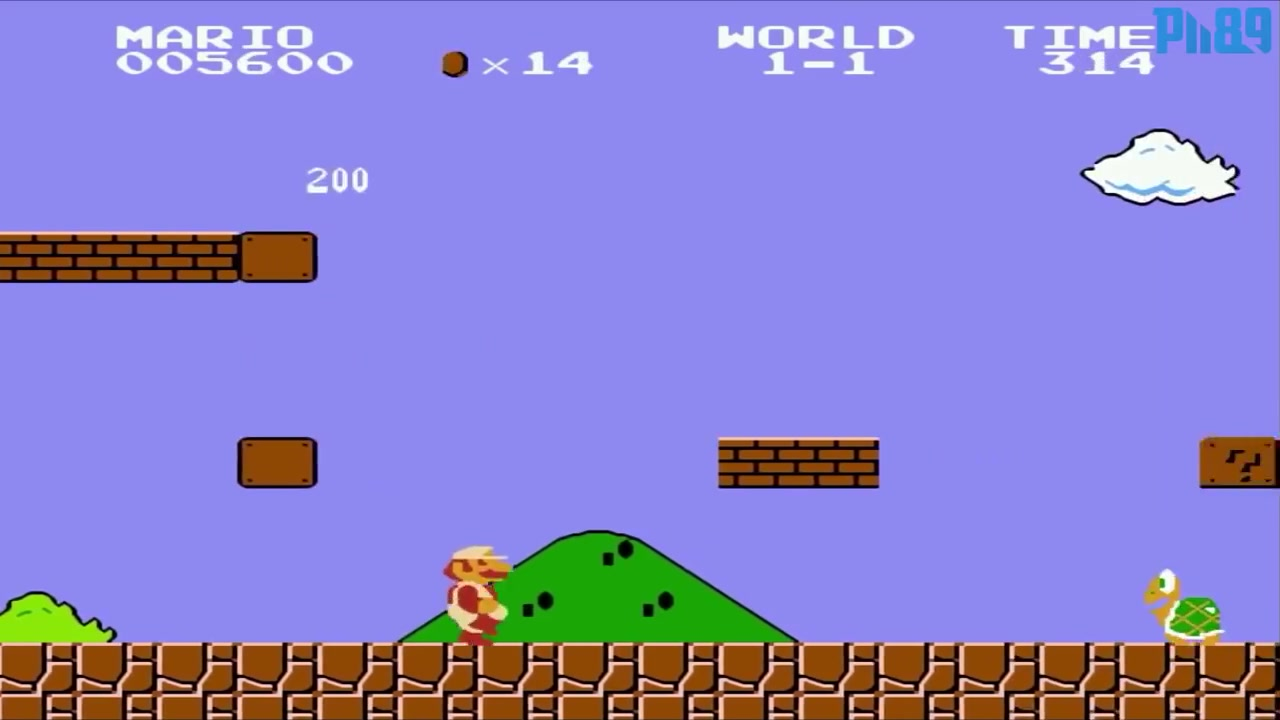mario: (432, 541, 519, 643)
